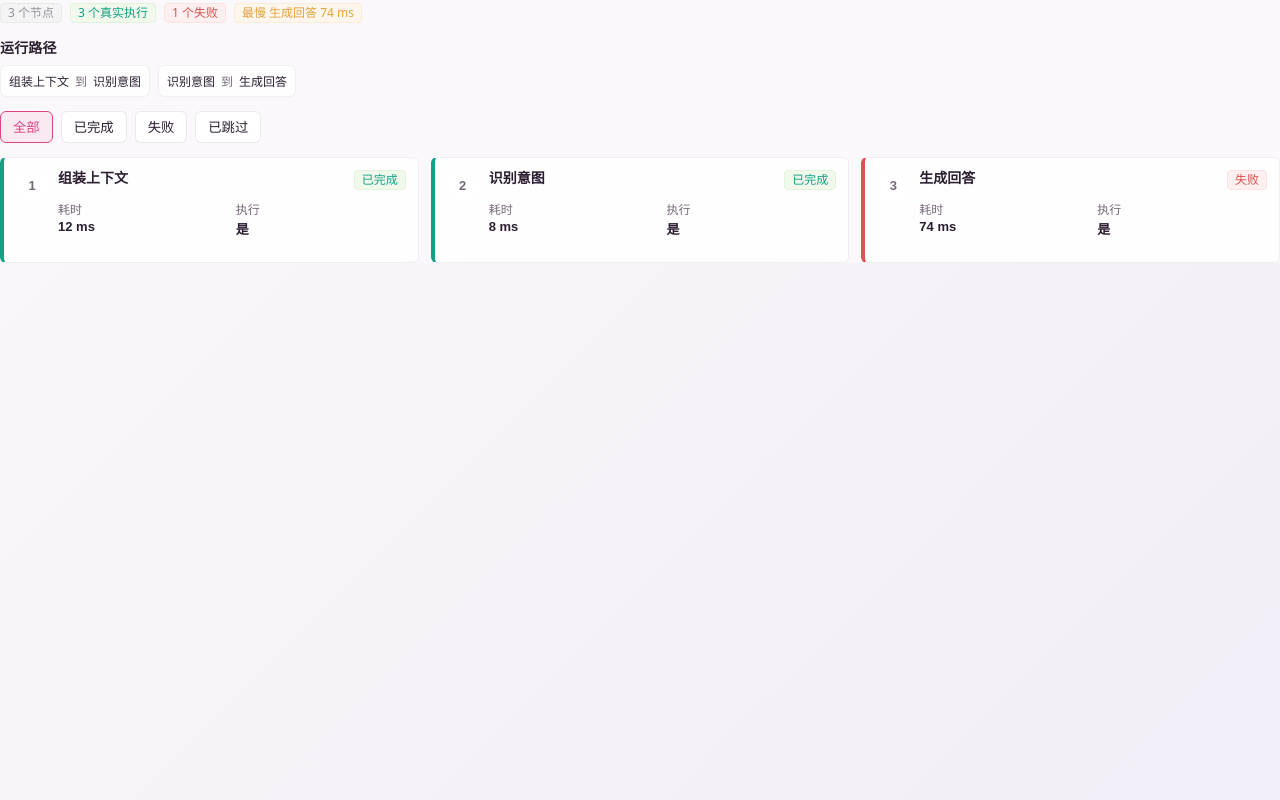
Test case: LangGraphRuntimeGraph › renders directed path, filters by node status, and opens node details
The width and height of the screenshot is (1280, 800).
Check: the number of elements with test id "runtime-edge" is 2, box x1=0 y1=65 x2=150 y2=97; x1=158 y1=65 x2=296 y2=97
Check: the button with test id "runtime-node-card-assemble_context" is shown, box x1=4 y1=158 x2=418 y2=262
Click the button with test id "runtime-filter-failed".
click(161, 127)  # box x1=135 y1=111 x2=187 y2=143
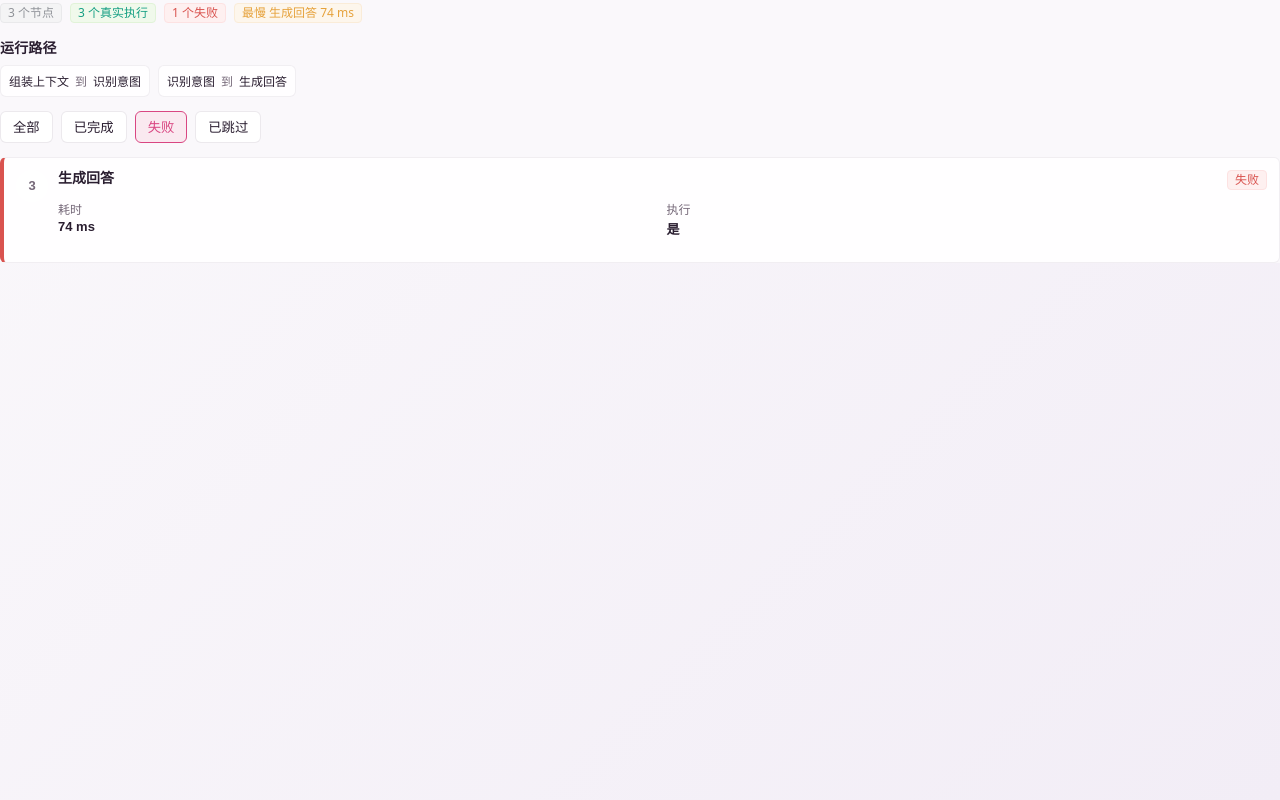
Click the button with test id "runtime-node-card-compose_answer".
click(32, 186)  # box x1=4 y1=158 x2=1279 y2=262
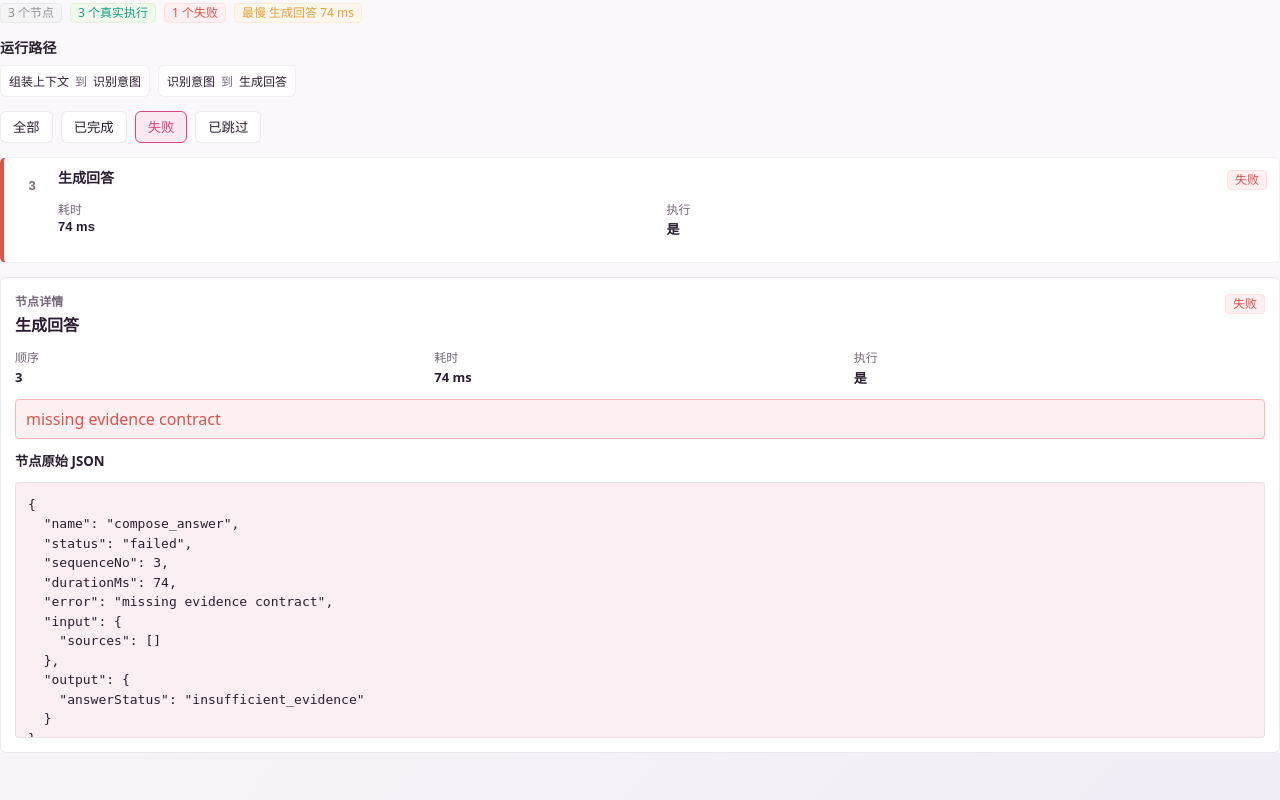
Check: the element with test id "runtime-node-detail" is shown, box x1=0 y1=277 x2=1279 y2=753
Check: the text "节点详情" is shown, box x1=15 y1=293 x2=64 y2=310
Check: the text "compose_answer" is shown, box x1=28 y1=497 x2=365 y2=746
